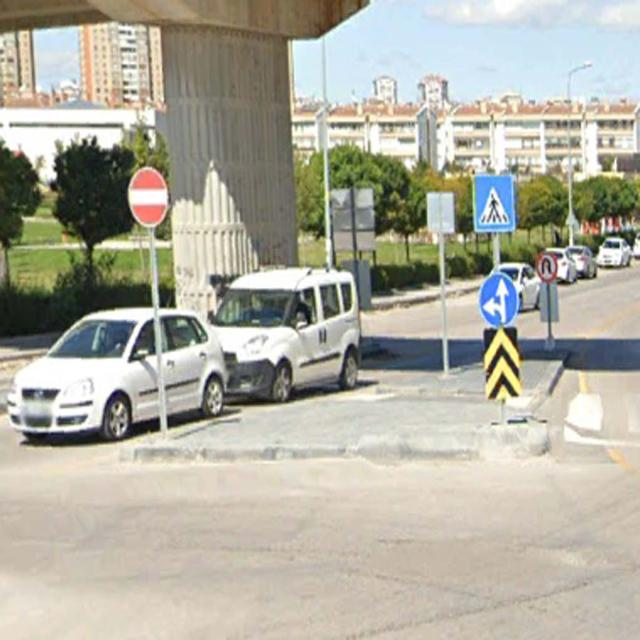girisyok: (126, 166, 167, 226)
ilerisol: (478, 272, 518, 326)
